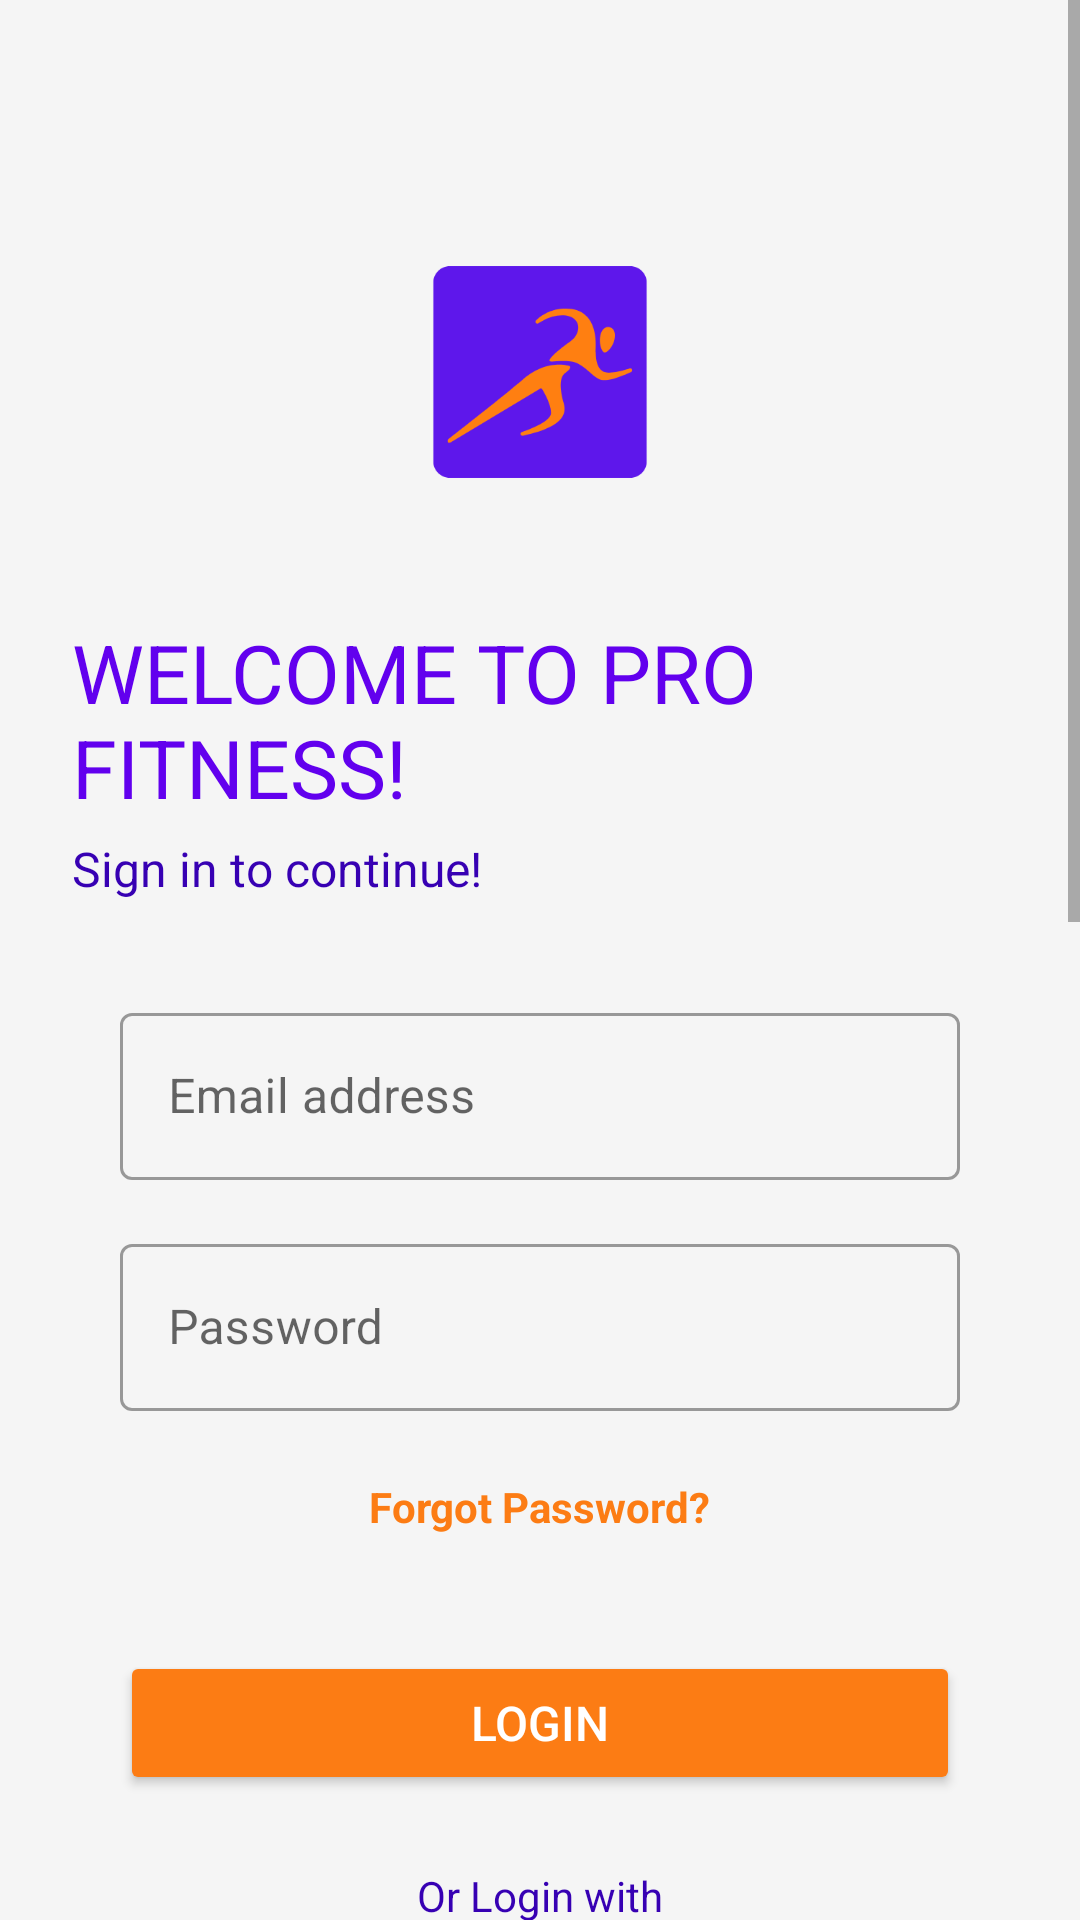

Point at icon controls on the screen. Image size 1080px x 1920px, points as (x,y).
fitnestwt: (540,372)
